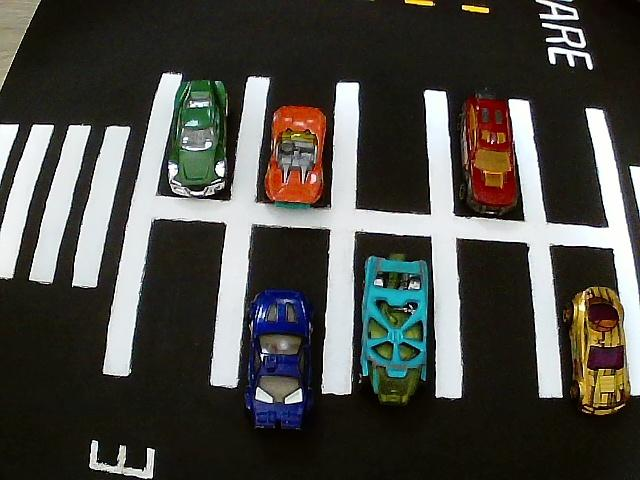Carro: (360, 256, 431, 409), (247, 290, 311, 432), (568, 287, 629, 418), (165, 81, 231, 201), (463, 96, 521, 217), (264, 107, 328, 207)
